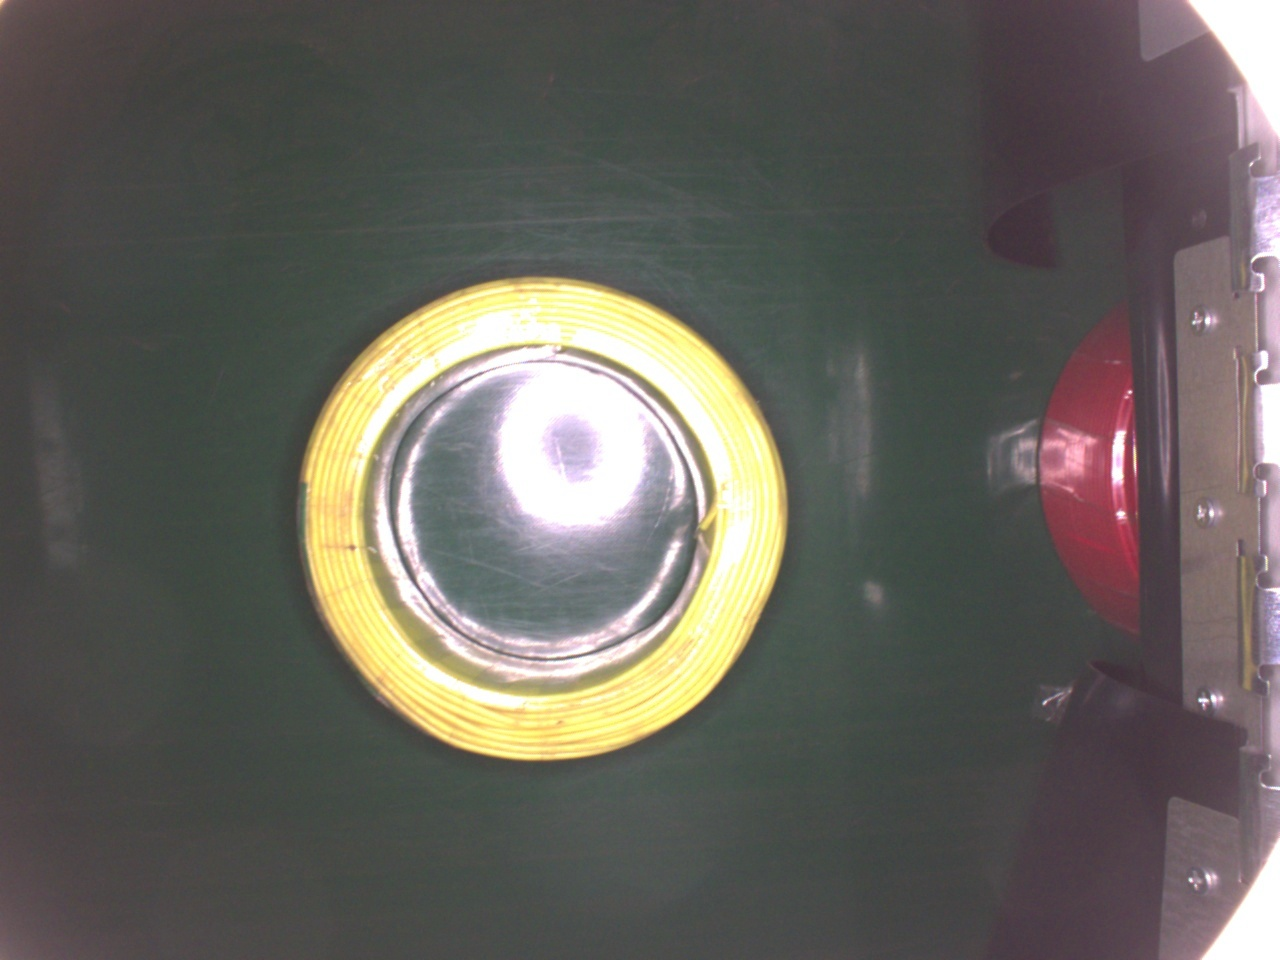yellow: (293, 270, 792, 764)
